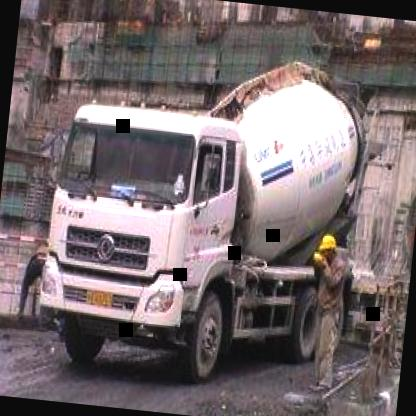helmet: (316, 233, 340, 262)
